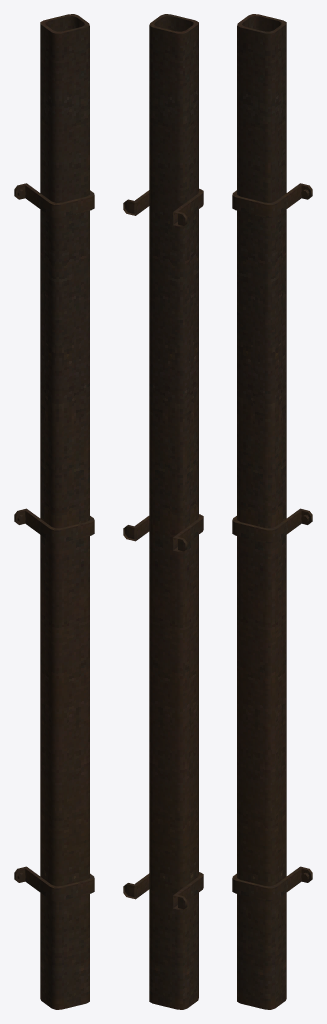
Rendered from rainwater_downpipe_hl_1_middle.glb.
The picture shows the model from 3 angles, left to right: view 1: azimuth 30°, elevation 25°; view 2: azimuth 150°, elevation 25°; view 3: azimuth 330°, elevation 25°; orthographic projection.
Visible parts, largest first — view 1: rainwater_downpipe_hl_1_middle; view 2: rainwater_downpipe_hl_1_middle; view 3: rainwater_downpipe_hl_1_middle.
Boxes of the visible parts, bbox=[...] form: rainwater_downpipe_hl_1_middle: bbox=[14, 14, 94, 1009]; rainwater_downpipe_hl_1_middle: bbox=[123, 14, 203, 1009]; rainwater_downpipe_hl_1_middle: bbox=[232, 14, 312, 1009].
Size of the model in its own units: 0.2 by 3 by 0.17.
Materials: 1 (1 with a texture image).
